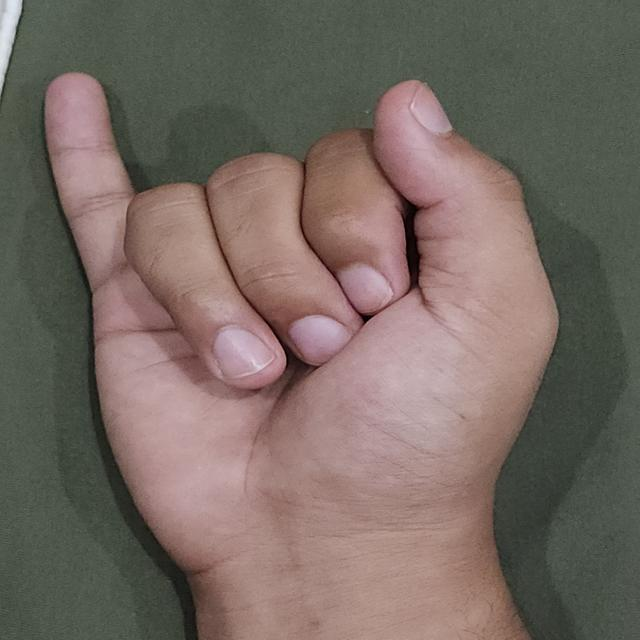ت: (34, 49, 596, 640)
